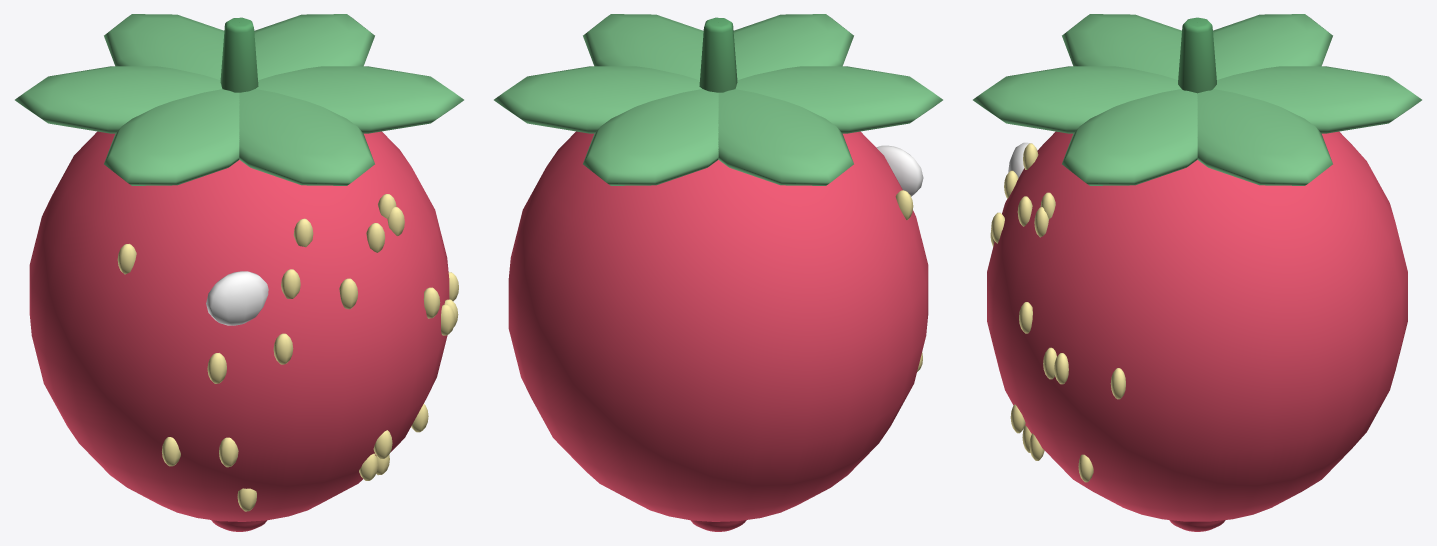
The model's file is strawberry.glb.
The picture shows the model from 3 angles, left to right: view 1: azimuth 30°, elevation 25°; view 2: azimuth 150°, elevation 25°; view 3: azimuth 270°, elevation 25°; orthographic projection.
Visible parts, largest first — view 1: cef5470, c7cc68a, cfff1a8, shine, stem; view 2: cef5470, c7cc68a, stem, shine; view 3: cef5470, c7cc68a, cfff1a8, stem.
Boxes of the visible parts, x1,y1,x2,y2 form: cef5470: (29,131,449,531); c7cc68a: (15,14,463,185); cfff1a8: (117,194,458,511); shine: (206,271,268,325); stem: (220,17,258,92); cef5470: (508,131,928,531); c7cc68a: (494,14,942,185); stem: (699,17,737,92); shine: (876,145,923,196); cef5470: (987,131,1407,531); c7cc68a: (973,14,1421,185); cfff1a8: (990,143,1125,482); stem: (1178,17,1216,93).
Bounding box in the file's own units: 0.8278 × 1.1 × 0.892.
